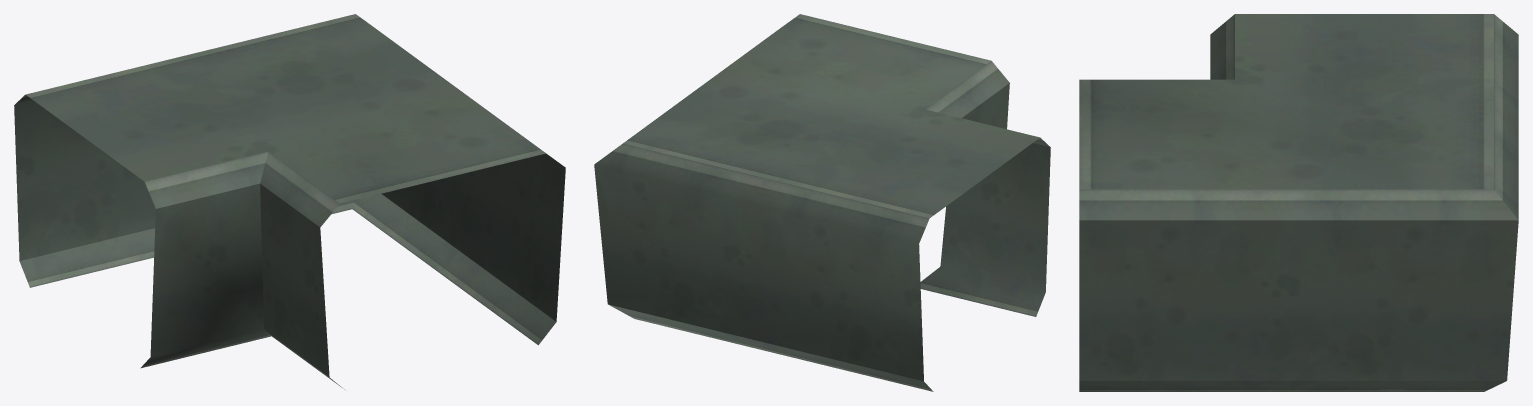
The model's file is Combined_Mesh_root_scene__20_a4a1e6c2__zombies2_diffuse_10_bd9ff187_c1f257.obj.
3 renders of one model, left to right at view 1: azimuth 30°, elevation 25°; view 2: azimuth 150°, elevation 25°; view 3: azimuth 270°, elevation 25°, orthographic. The views are drawn at different scales.
Size of the model in its own units: 15.41 by 8 by 15.41.
2 materials, 2 textured.
